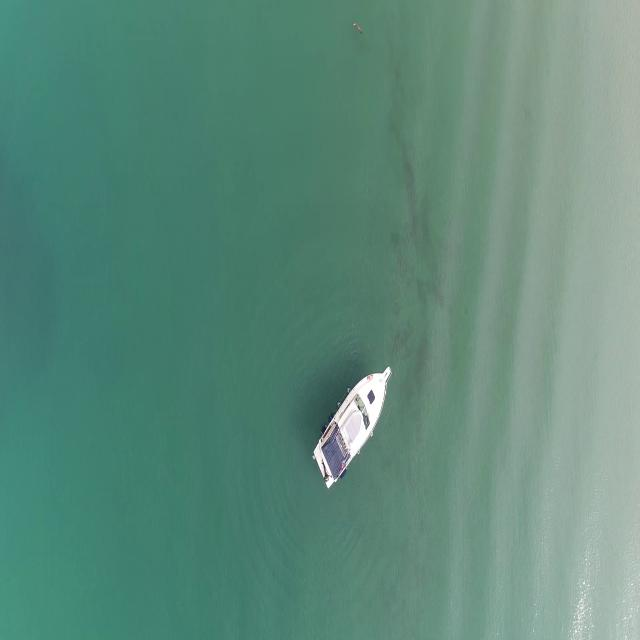boat: (315, 362, 392, 495)
wood: (352, 21, 364, 35)
